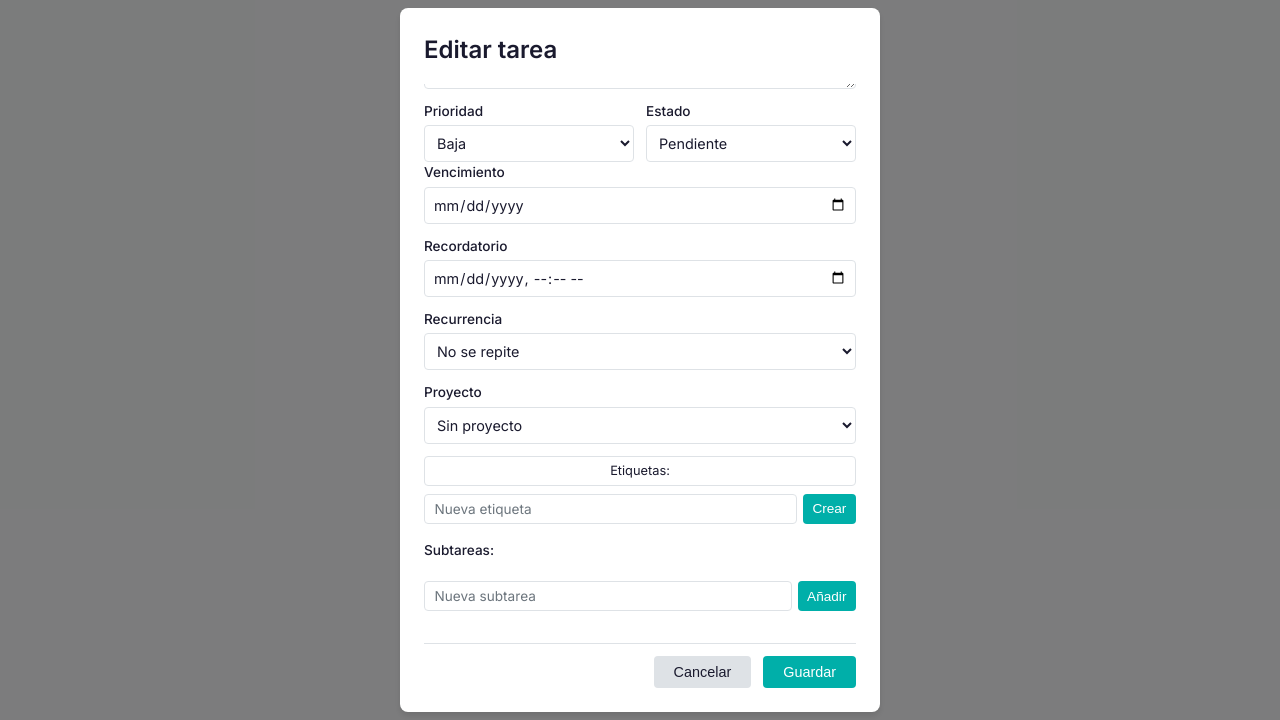
Test case: AddTaskModal › lists and adds subtasks when editing a task
This screenshot has width=1280, height=720.
(page scrolled)
In the field labelled "Nueva subtarea": {"x": 608, "y": 596} [424, 581, 792, 612], type "Child"
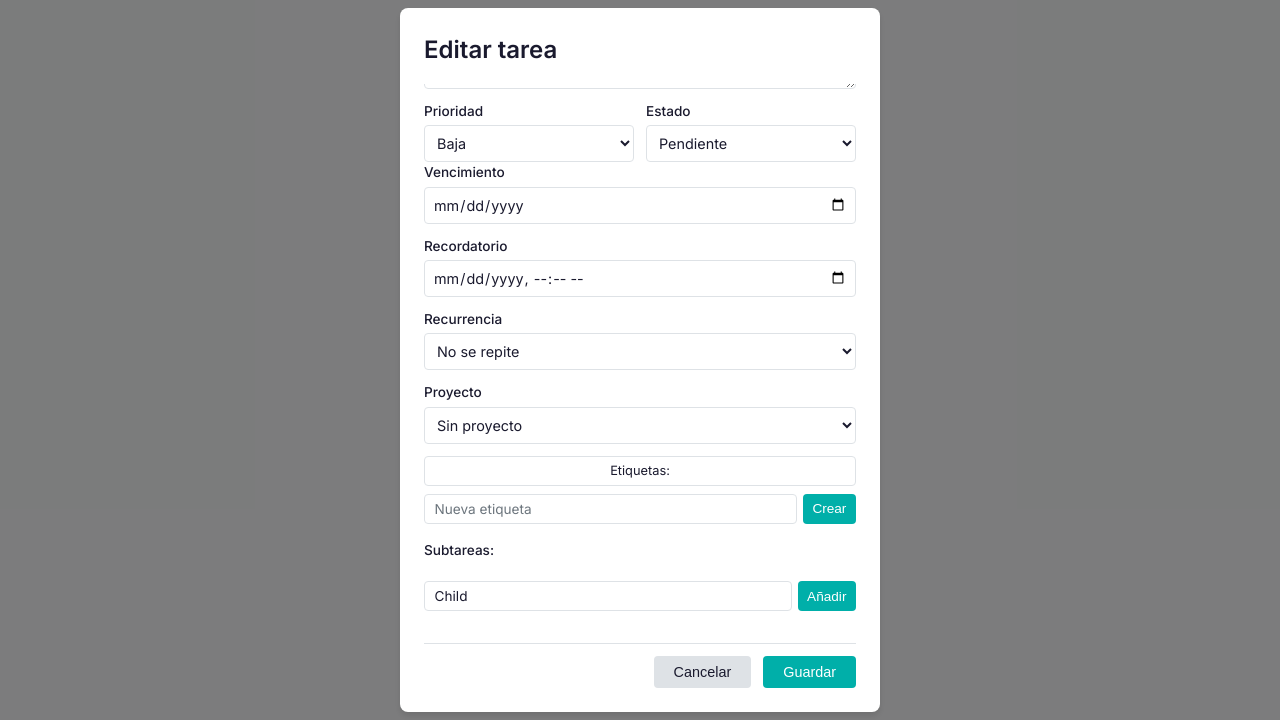
Click the button "Añadir": {"x": 827, "y": 596} [798, 581, 856, 612]
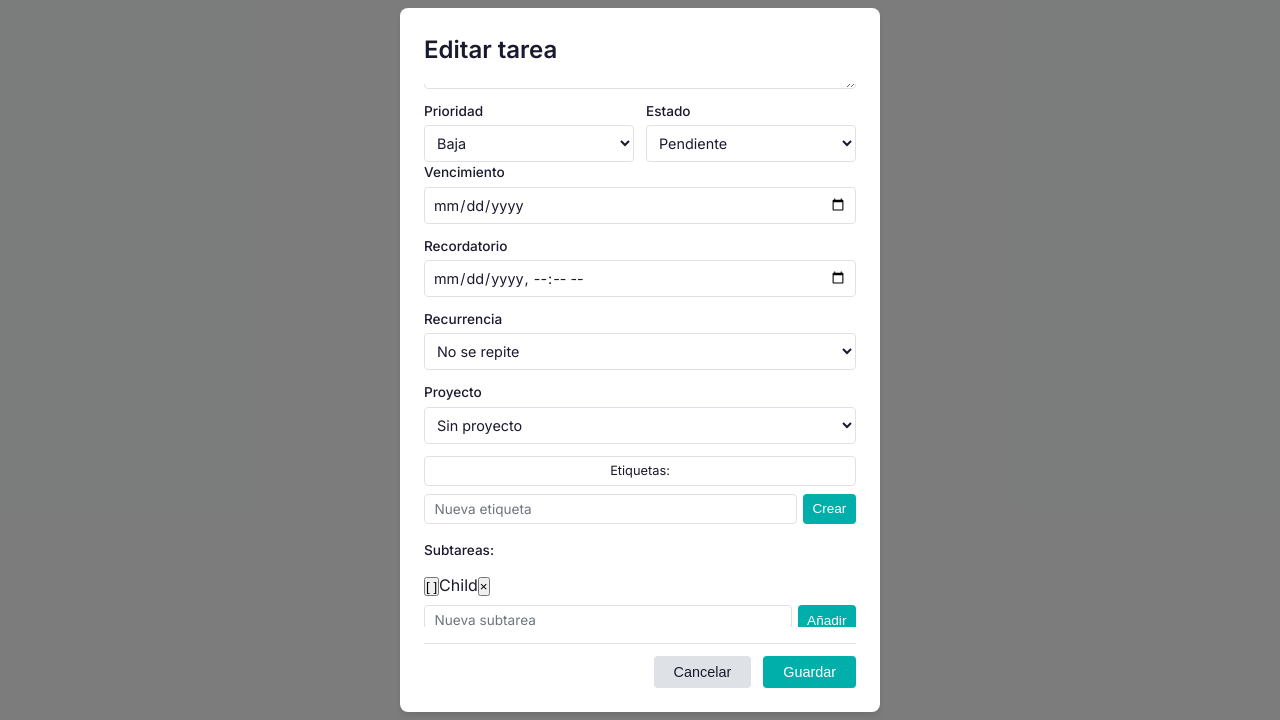
Check: the text "Child" is shown, box [439, 575, 478, 595]
